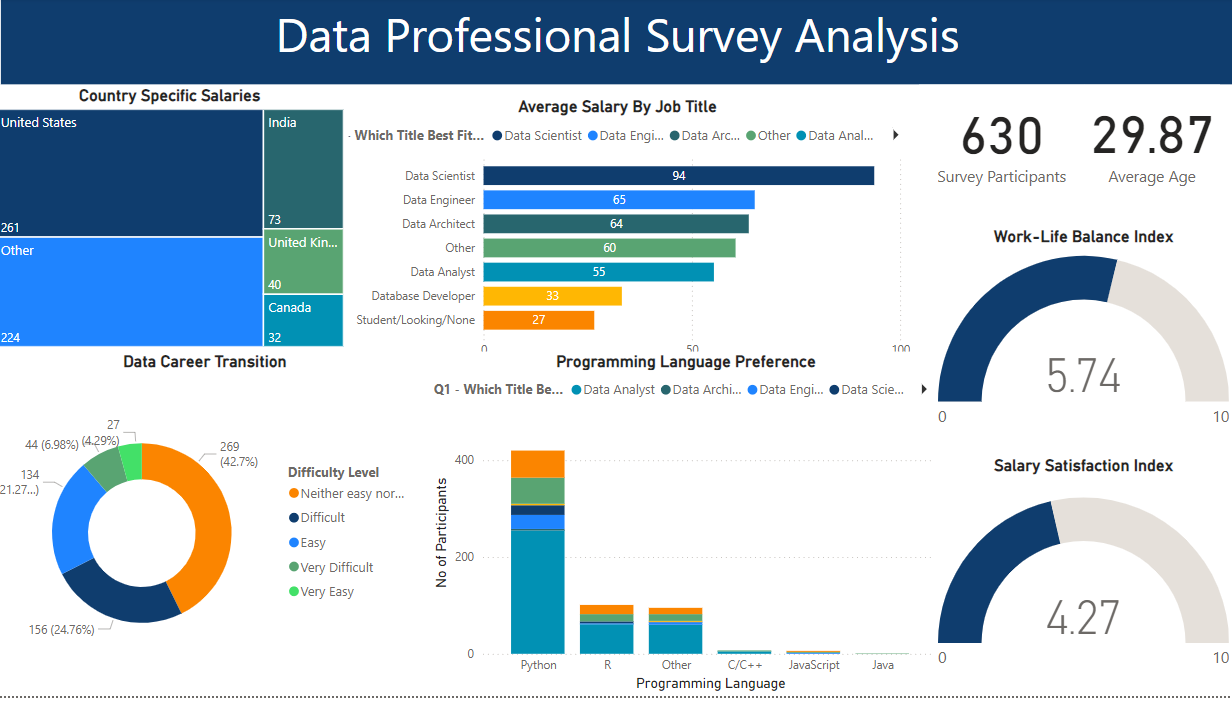

The dashboard page shown, as its layout file describes it:
{"tool":"powerbi","page":{"name":"Page 1","canvas":[1280,720],"ordinal":0},"visuals":[{"type":"textbox","box":[10.1,0,1269.6,89.6],"z":0},{"type":"card","fields":{"Values":["CountNonNull(Data Professional Survey.Unique ID)"]},"box":[955.4,90.2,170.1,112],"z":1000},{"type":"card","fields":{"Values":["Avg(Data Professional Survey.Q10 - Current Age)"]},"box":[1125.5,90.2,139.6,110.5],"z":2000},{"type":"barChart","title":"Average Salary By Job Title","fields":{"Y":["Avg(Data Professional Survey.Average_Salary)"],"Category":["Data Professional Survey.Q1 - Which Title Best Fits your Current Role?.1"],"Series":["Data Professional Survey.Q1 - Which Title Best Fits your Current Role?.1"]},"box":[338.8,103.2,612.2,292.3],"z":3000},{"type":"columnChart","title":"Programming Language Preference","fields":{"Category":["Data Professional Survey.Q5 - Favorite Programming Language.1"],"Y":["CountNonNull(Data Professional Survey.Unique ID)"],"Series":["Data Professional Survey.Q1 - Which Title Best Fits your Current Role?.1"]},"box":[450.8,365,529.3,354.8],"z":4000},{"type":"treemap","title":"Country Specific Salaries","fields":{"Values":["CountNonNull(Data Professional Survey.Q11 - Which Country do you live in?.1)"],"Group":["Data Professional Survey.Q11 - Which Country do you live in?.1"]},"box":[0,91.6,367.9,273.4],"z":5000},{"type":"gauge","title":"Work-Life Balance Index","fields":{"Y":["Avg(Data Professional Survey.Q6 - How Happy are you in your Current Position with the following? (Work/Life Balance))"],"MinValue":["Min(Data Professional Survey.Q6 - How Happy are you in your Current Position with the following? (Work/Life Balance))"],"MaxValue":["Max(Data Professional Survey.Q6 - How Happy are you in your Current Position with the following? (Work/Life Balance))1"]},"box":[969.9,237,309.7,221],"z":6000},{"type":"gauge","title":"Salary Satisfaction Index","fields":{"Y":["Avg(Data Professional Survey.Q6 - How Happy are you in your Current Position with the following? (Salary))"],"MinValue":["Min(Data Professional Survey.Q6 - How Happy are you in your Current Position with the following? (Salary))"],"MaxValue":["Max(Data Professional Survey.Q6 - How Happy are you in your Current Position with the following? (Salary))"]},"box":[969.9,472.6,309.7,247.2],"z":7000},{"type":"donutChart","title":"Data Career Transition","fields":{"Category":["Data Professional Survey.Q7 - How difficult was it for you to break into Data?"],"Y":["CountNonNull(Data Professional Survey.Q7 - How difficult was it for you to break into Data?)"]},"box":[0,365,440.6,354.8],"z":8000}]}

Visuals, with their boxes in screenshot pixels (x1, y1, x2, y2), scaled from the page's 1280x720 canvas onto the 1232x708 screenshot:
textbox: left=10, top=0, right=1231, bottom=88
card - CountNonNull(Data Professional Survey.Unique ID): left=920, top=89, right=1083, bottom=199
card - Avg(Data Professional Survey.Q10 - Current Age): left=1083, top=89, right=1218, bottom=197
"Average Salary By Job Title" barChart: left=326, top=101, right=915, bottom=389
"Programming Language Preference" columnChart: left=434, top=359, right=943, bottom=707
"Country Specific Salaries" treemap: left=0, top=90, right=354, bottom=359
"Work-Life Balance Index" gauge: left=934, top=233, right=1231, bottom=450
"Salary Satisfaction Index" gauge: left=934, top=465, right=1231, bottom=707
"Data Career Transition" donutChart: left=0, top=359, right=424, bottom=707
